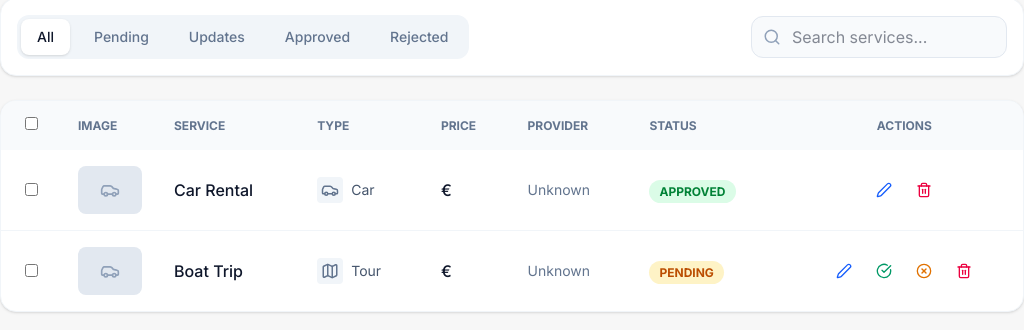
Test case: Admin ServicesPage › filters services by search query
Expected: the text "Car Rental" is shown, [174,180,253,200]
In the field with placeholder "Search services...": (879, 37) [751,16,1007,58], type "boat"
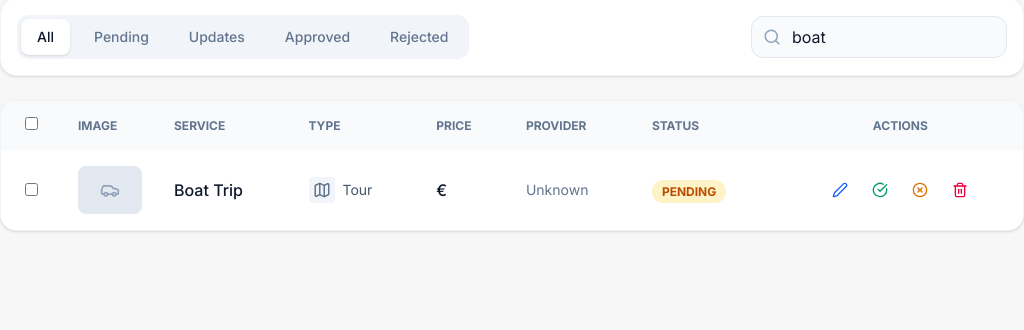
Expected: the text "Boat Trip" is shown, [174,180,243,200]
Expected: the text "Car Rental" is gone
